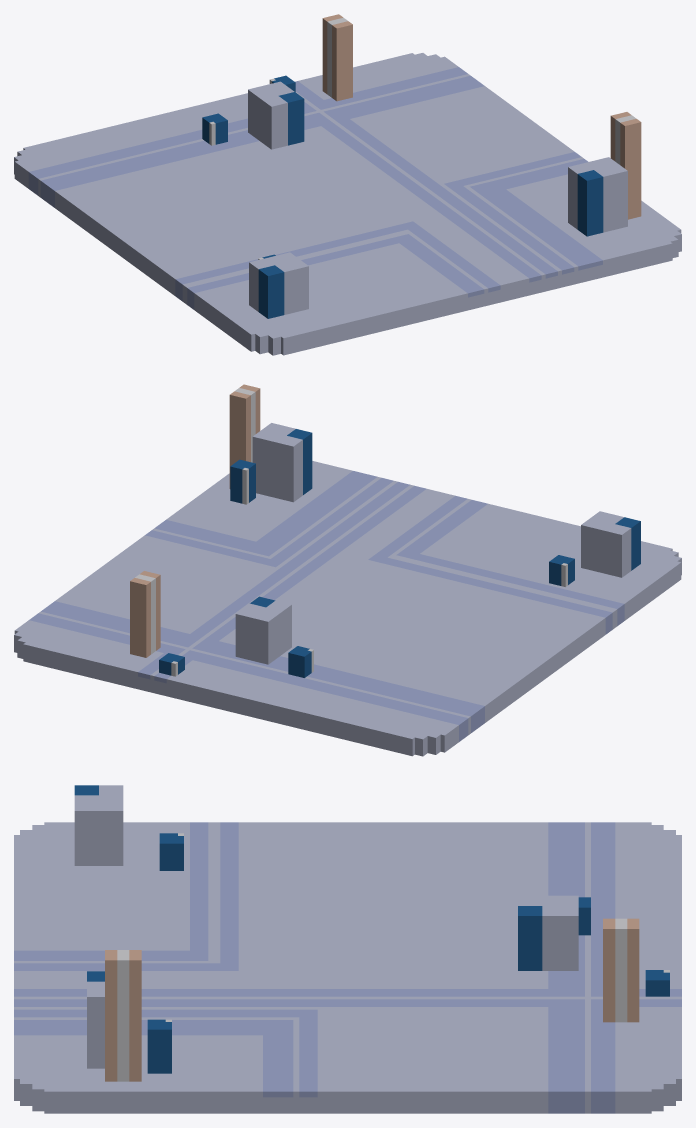
Rendered from ggj2020_stage_elec.obj.
The picture shows the model from 3 angles, top to bottom: view 1: azimuth 30°, elevation 25°; view 2: azimuth 150°, elevation 25°; view 3: azimuth 270°, elevation 25°; orthographic projection. The views are drawn at different scales.
Bounding box in the file's own units: 10.5 × 2.7 × 11.
1 material, 1 textured.
